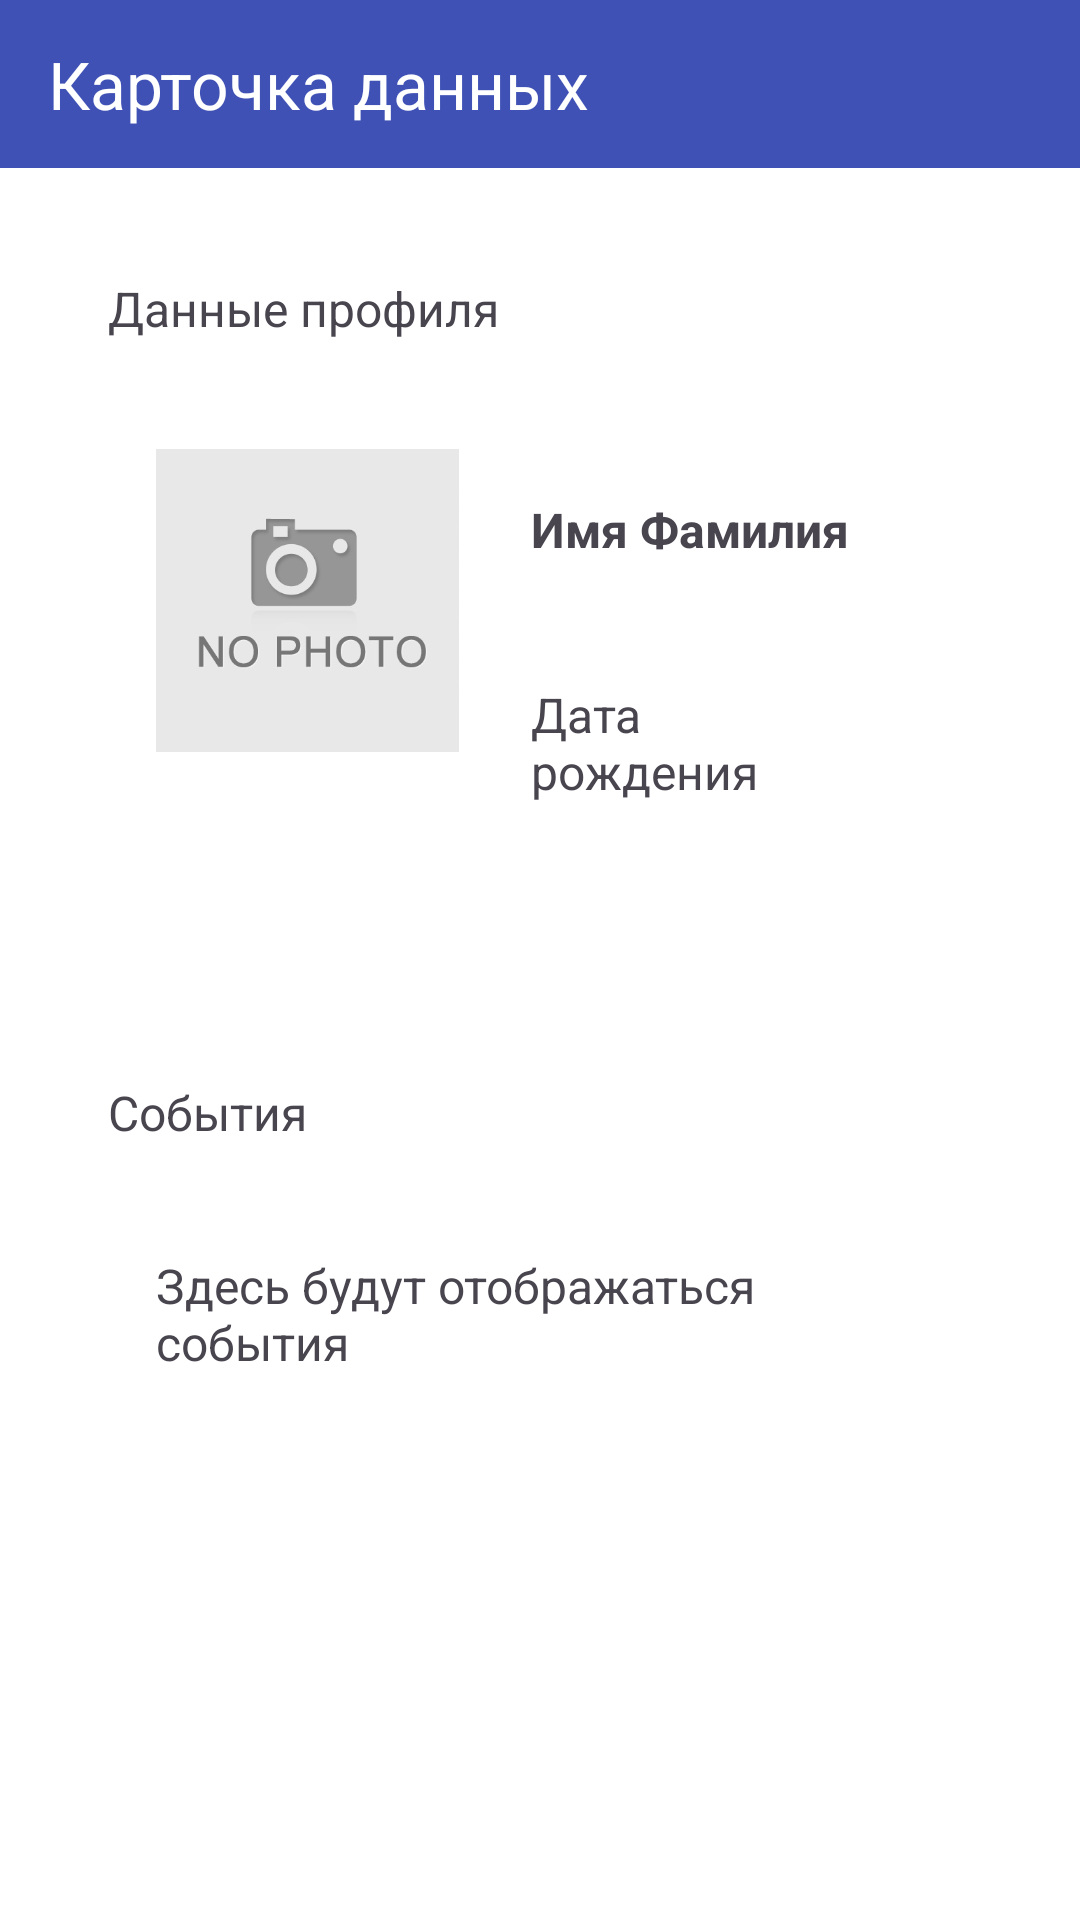

Named icons in this screenshot (1080px x 1920px) and their centers, point (x, y):
Фото профиля: point (307, 600)
